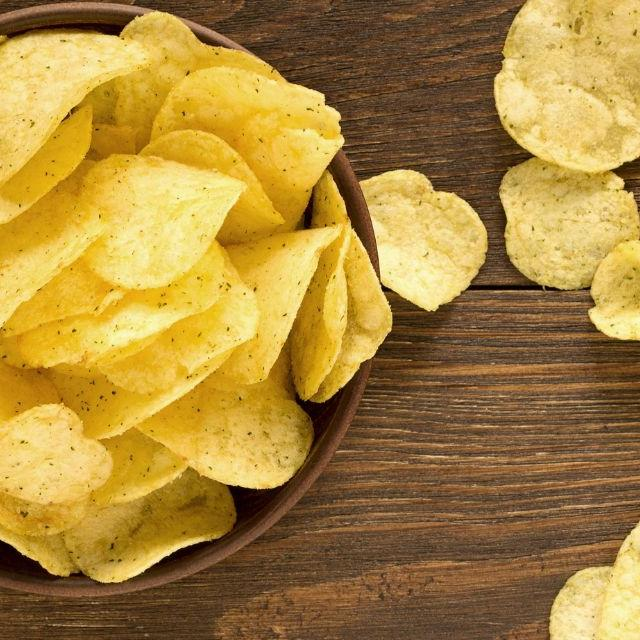food_waste: (0, 0, 387, 566)
